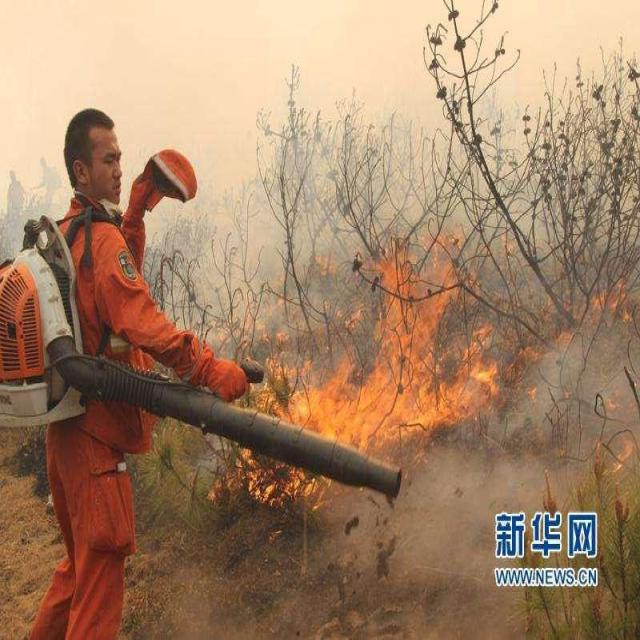fire: (217, 229, 506, 507), (581, 266, 631, 322), (598, 408, 632, 477)
other: (0, 106, 199, 636)
smoke: (146, 6, 401, 96)
